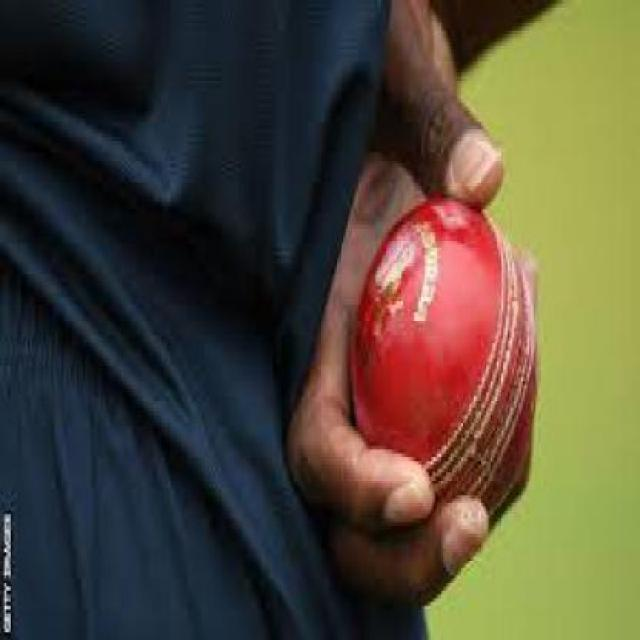ball: (322, 175, 576, 518)
